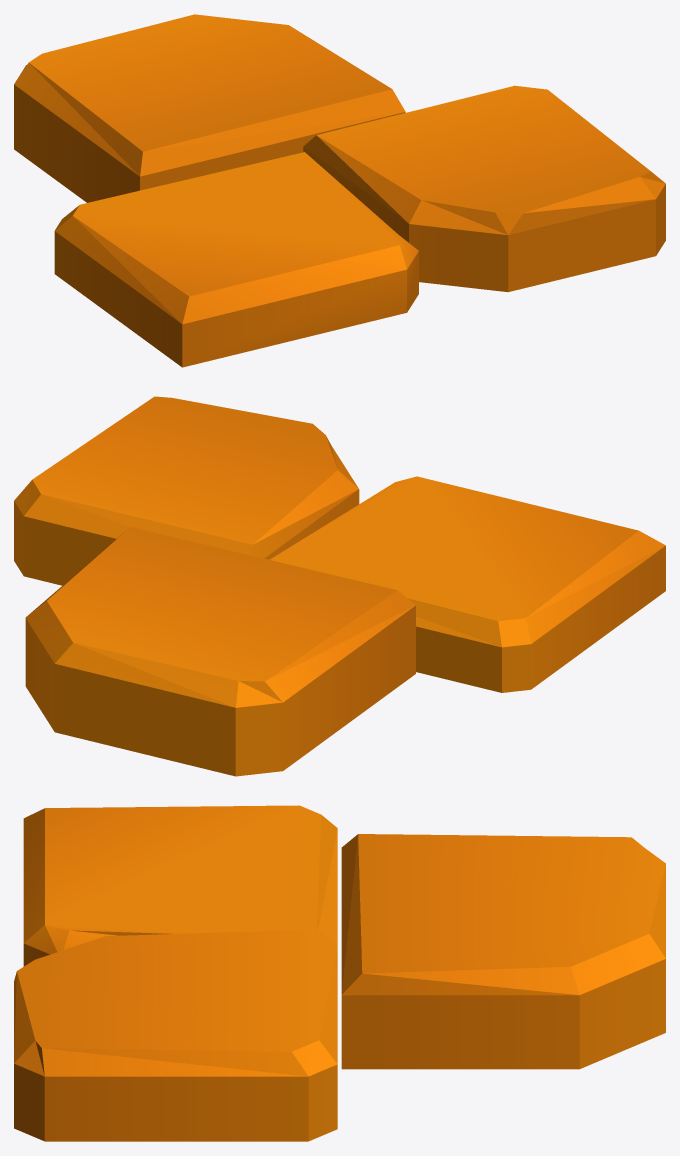
File: Ground_Tiles_01.fbx
The picture shows the model from 3 angles, top to bottom: view 1: azimuth 30°, elevation 25°; view 2: azimuth 150°, elevation 25°; view 3: azimuth 270°, elevation 25°; orthographic projection. The views are drawn at different scales.
Visible parts, largest first — view 1: Ground_Tiles_01; view 2: Ground_Tiles_01; view 3: Ground_Tiles_01.
Part boxes in pixels (left/top/right/bottom): Ground_Tiles_01: left=14, top=14, right=665, bottom=367; Ground_Tiles_01: left=14, top=396, right=665, bottom=776; Ground_Tiles_01: left=14, top=805, right=665, bottom=1141.
Bounding box in the file's own units: 100 × 15.92 × 101.
